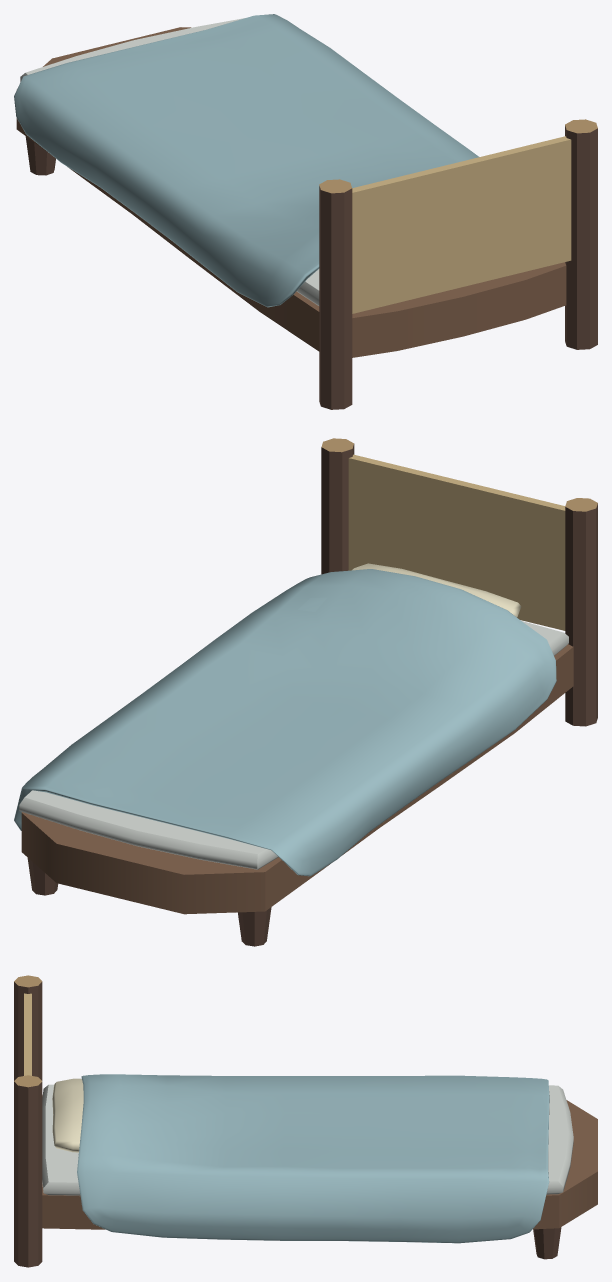
File: atoll_Bed1.fbx
3 views of the same model, one above another, from view 1: azimuth 30°, elevation 25°; view 2: azimuth 150°, elevation 25°; view 3: azimuth 270°, elevation 25° (orthographic). The views are drawn at different scales.
Parts seen in each view (by area): view 1: Blanket1, Headboard, Base, Post2, Post3, Mattress, Leg2; view 2: Blanket1, Headboard, Base, Mattress, Post2, Post3, Pillow, Leg2; view 3: Blanket1, Post3, Base, Mattress, Post2, Pillow, Leg1, Headboard.
Boxes of the visible parts, bbox=[...] form: Blanket1: bbox=[14, 14, 479, 307]; Headboard: bbox=[352, 136, 571, 313]; Base: bbox=[16, 27, 566, 357]; Post2: bbox=[319, 179, 352, 409]; Post3: bbox=[565, 119, 597, 349]; Mattress: bbox=[20, 18, 319, 305]; Leg2: bbox=[25, 136, 55, 175]; Blanket1: bbox=[14, 569, 556, 876]; Headboard: bbox=[348, 454, 565, 630]; Base: bbox=[21, 644, 573, 914]; Mattress: bbox=[19, 621, 568, 869]; Post2: bbox=[565, 498, 597, 726]; Post3: bbox=[321, 438, 354, 574]; Pillow: bbox=[352, 563, 521, 617]; Leg2: bbox=[237, 907, 271, 946]; Blanket1: bbox=[77, 1074, 549, 1243]; Post3: bbox=[14, 1075, 42, 1267]; Base: bbox=[42, 1095, 597, 1229]; Mattress: bbox=[42, 1084, 573, 1195]; Post2: bbox=[14, 975, 42, 1080]; Pillow: bbox=[52, 1078, 83, 1152]; Leg1: bbox=[533, 1227, 561, 1259]; Headboard: bbox=[24, 993, 31, 1075].
Bounding box in the file's own units: 238 × 171 × 501.
